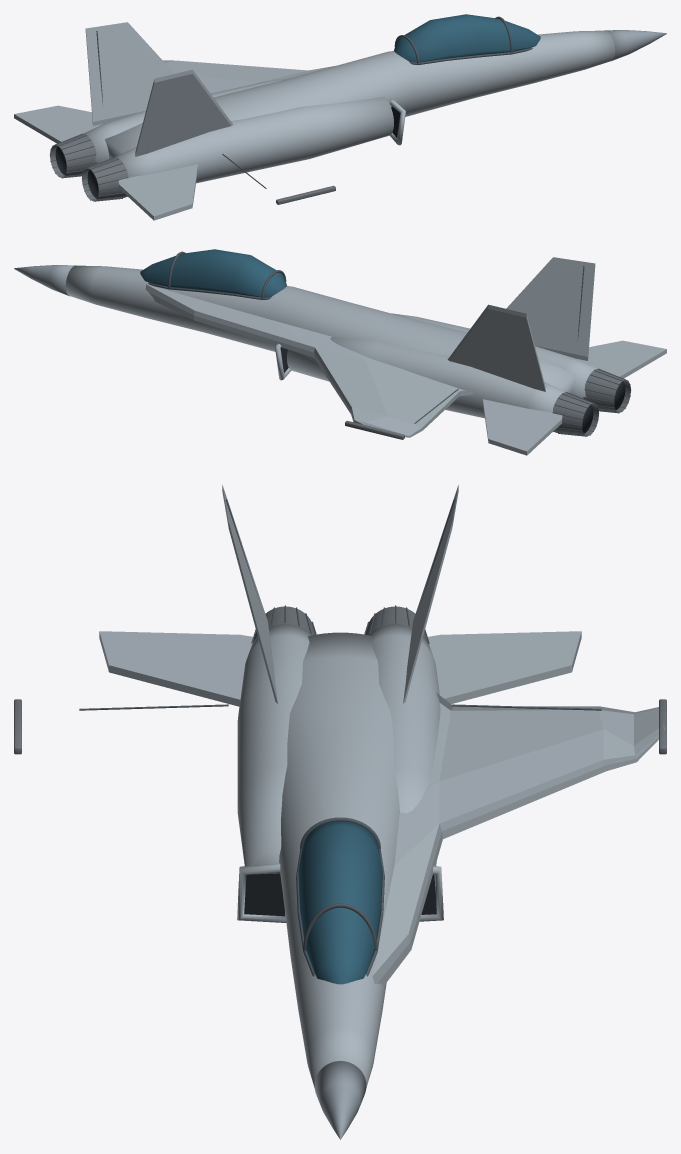
File: F18_continuado.glb
The picture shows the model from 3 angles, top to bottom: view 1: azimuth 30°, elevation 25°; view 2: azimuth 150°, elevation 25°; view 3: azimuth 270°, elevation 25°; orthographic projection. The views are drawn at different scales.
Parts seen in each view (by area): view 1: Fuselage_continued, Engine_fairing_R, Vertical_tail_L, Vertical_tail_R, Canopy, Stabilator_R, Wings_and_LEX_from_original, Stabilator_L, Engine_fairing_L, Nozzle_L, Nozzle_R, Radome (+3 smaller); view 2: Fuselage_continued, Wings_and_LEX_from_original, Engine_fairing_L, Vertical_tail_R, Vertical_tail_L, Canopy, Stabilator_L, Stabilator_R, Engine_fairing_R, Nozzle_R, Nozzle_L, Radome (+2 smaller); view 3: Fuselage_continued, Wings_and_LEX_from_original, Engine_fairing_R, Canopy, Stabilator_R, Stabilator_L, Engine_fairing_L, Radome, Vertical_tail_L, Vertical_tail_R, Intake_shadow_R, Intake_lip_R.
Part boxes in pixels (x1,y1,x2,y2): Fuselage_continued: (105, 30, 615, 158); Engine_fairing_R: (115, 97, 393, 196); Vertical_tail_L: (85, 22, 174, 125); Vertical_tail_R: (135, 69, 233, 156); Canopy: (394, 14, 540, 62); Stabilator_R: (118, 164, 197, 220); Wings_and_LEX_from_original: (163, 60, 334, 93); Stabilator_L: (14, 105, 102, 143); Engine_fairing_L: (83, 78, 289, 163); Nozzle_L: (50, 134, 97, 177); Nozzle_R: (82, 157, 128, 200); Radome: (604, 30, 666, 61); Fuselage_continued: (65, 265, 575, 393); Wings_and_LEX_from_original: (145, 284, 476, 437); Engine_fairing_L: (287, 337, 565, 431); Vertical_tail_R: (506, 257, 595, 360); Vertical_tail_L: (447, 304, 545, 391); Canopy: (140, 249, 286, 297); Stabilator_L: (483, 399, 562, 455); Stabilator_R: (578, 340, 666, 378); Engine_fairing_R: (391, 313, 597, 398); Nozzle_R: (583, 369, 630, 412); Nozzle_L: (553, 392, 598, 435); Radome: (14, 265, 76, 296); Fuselage_continued: (279, 632, 399, 1087); Wings_and_LEX_from_original: (372, 692, 664, 986); Engine_fairing_R: (237, 624, 311, 866); Canopy: (298, 821, 382, 984); Stabilator_R: (99, 631, 252, 706); Stabilator_L: (428, 631, 581, 704); Engine_fairing_L: (369, 624, 440, 866); Radome: (314, 1061, 366, 1139); Vertical_tail_L: (403, 485, 458, 703); Vertical_tail_R: (222, 485, 277, 703); Intake_shadow_R: (244, 873, 284, 916); Intake_lip_R: (237, 863, 286, 922).
Size of the model in its own units: 14.76 by 3.16 by 8.18.
